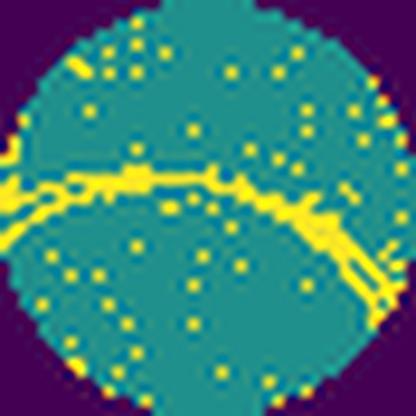Scratch: (0, 158, 408, 334)
